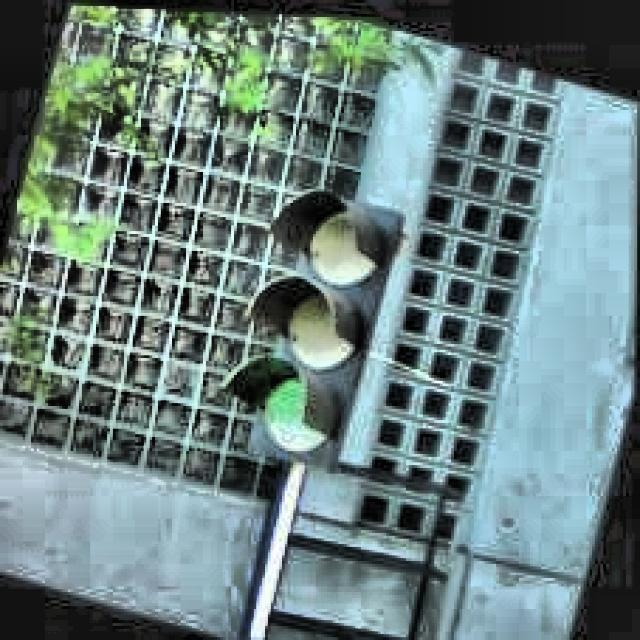green: (212, 173, 403, 470)
